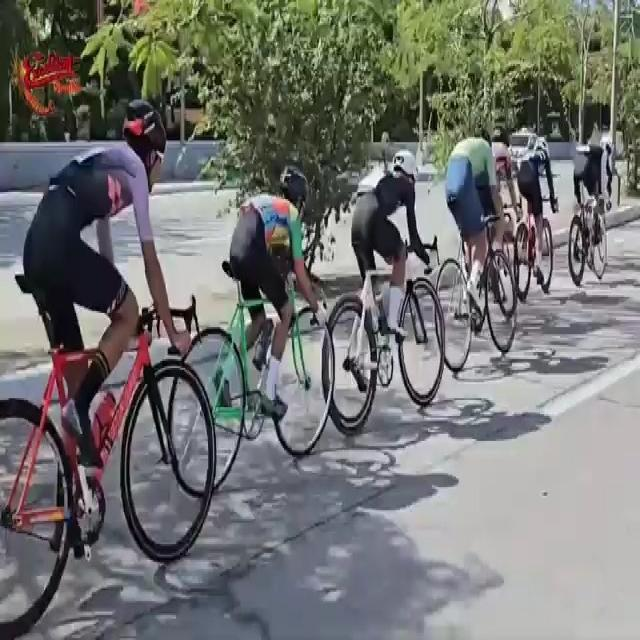bike: (0, 88, 215, 640), (172, 150, 335, 486), (321, 145, 447, 442), (432, 126, 520, 386), (513, 131, 557, 308), (568, 126, 612, 290)
